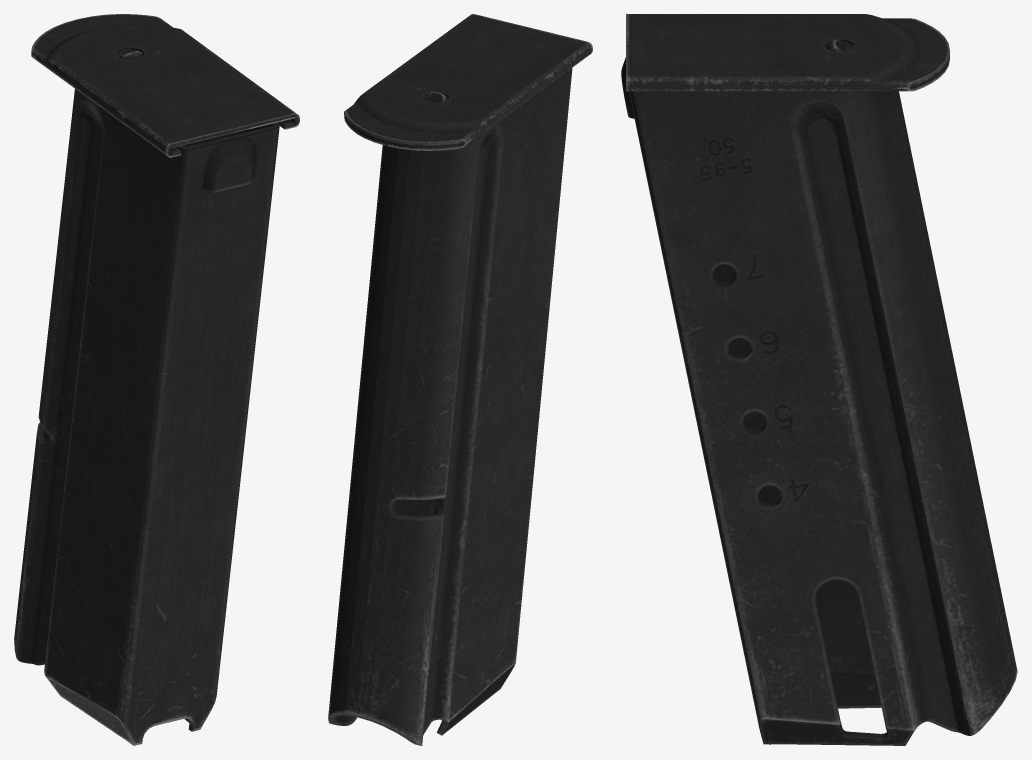
3 renders of one model, left to right at view 1: azimuth 30°, elevation 25°; view 2: azimuth 150°, elevation 25°; view 3: azimuth 270°, elevation 25°, orthographic. The views are drawn at different scales.
Visible parts, largest first — view 1: TW_668fe5c5f35310705d02b696_PZ_Import; view 2: TW_668fe5c5f35310705d02b696_PZ_Import; view 3: TW_668fe5c5f35310705d02b696_PZ_Import.
Part boxes in pixels (<box>): TW_668fe5c5f35310705d02b696_PZ_Import: <box>14,14,299,745</box>; TW_668fe5c5f35310705d02b696_PZ_Import: <box>328,14,592,745</box>; TW_668fe5c5f35310705d02b696_PZ_Import: <box>621,14,1017,745</box>.
Size of the model in its own units: 0.0156 by 0.0388 by 0.074.
1 material, 1 textured.
